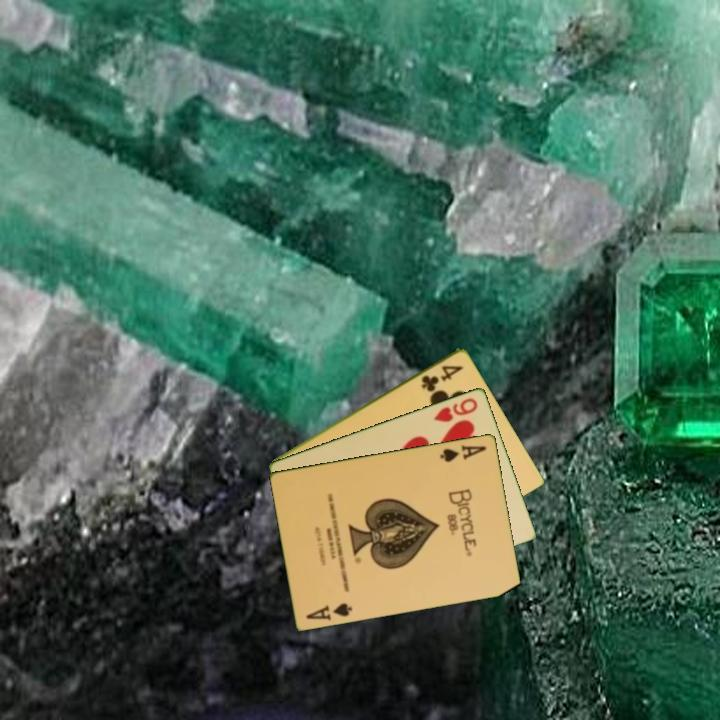4c: (418, 361, 466, 394)
9h: (430, 394, 481, 425)
As: (436, 441, 489, 465), (303, 599, 355, 622)
